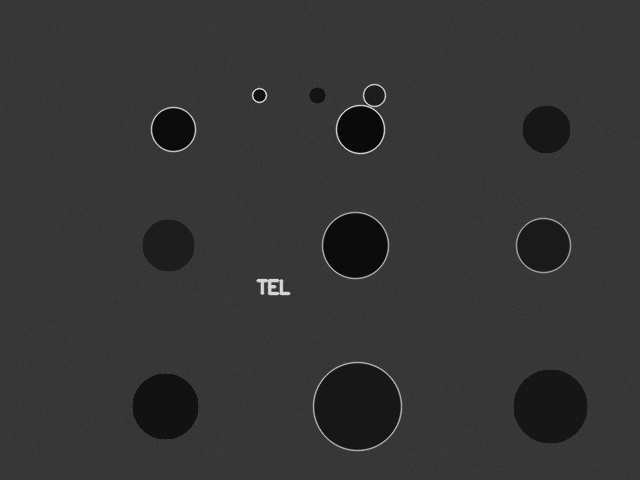hole: (313, 362, 401, 450), (513, 369, 587, 443), (322, 212, 388, 278), (132, 373, 198, 439), (516, 218, 570, 272), (142, 219, 194, 271), (336, 105, 384, 153), (522, 105, 570, 153), (151, 107, 195, 151), (363, 84, 385, 106), (309, 87, 325, 103), (252, 88, 266, 102)
